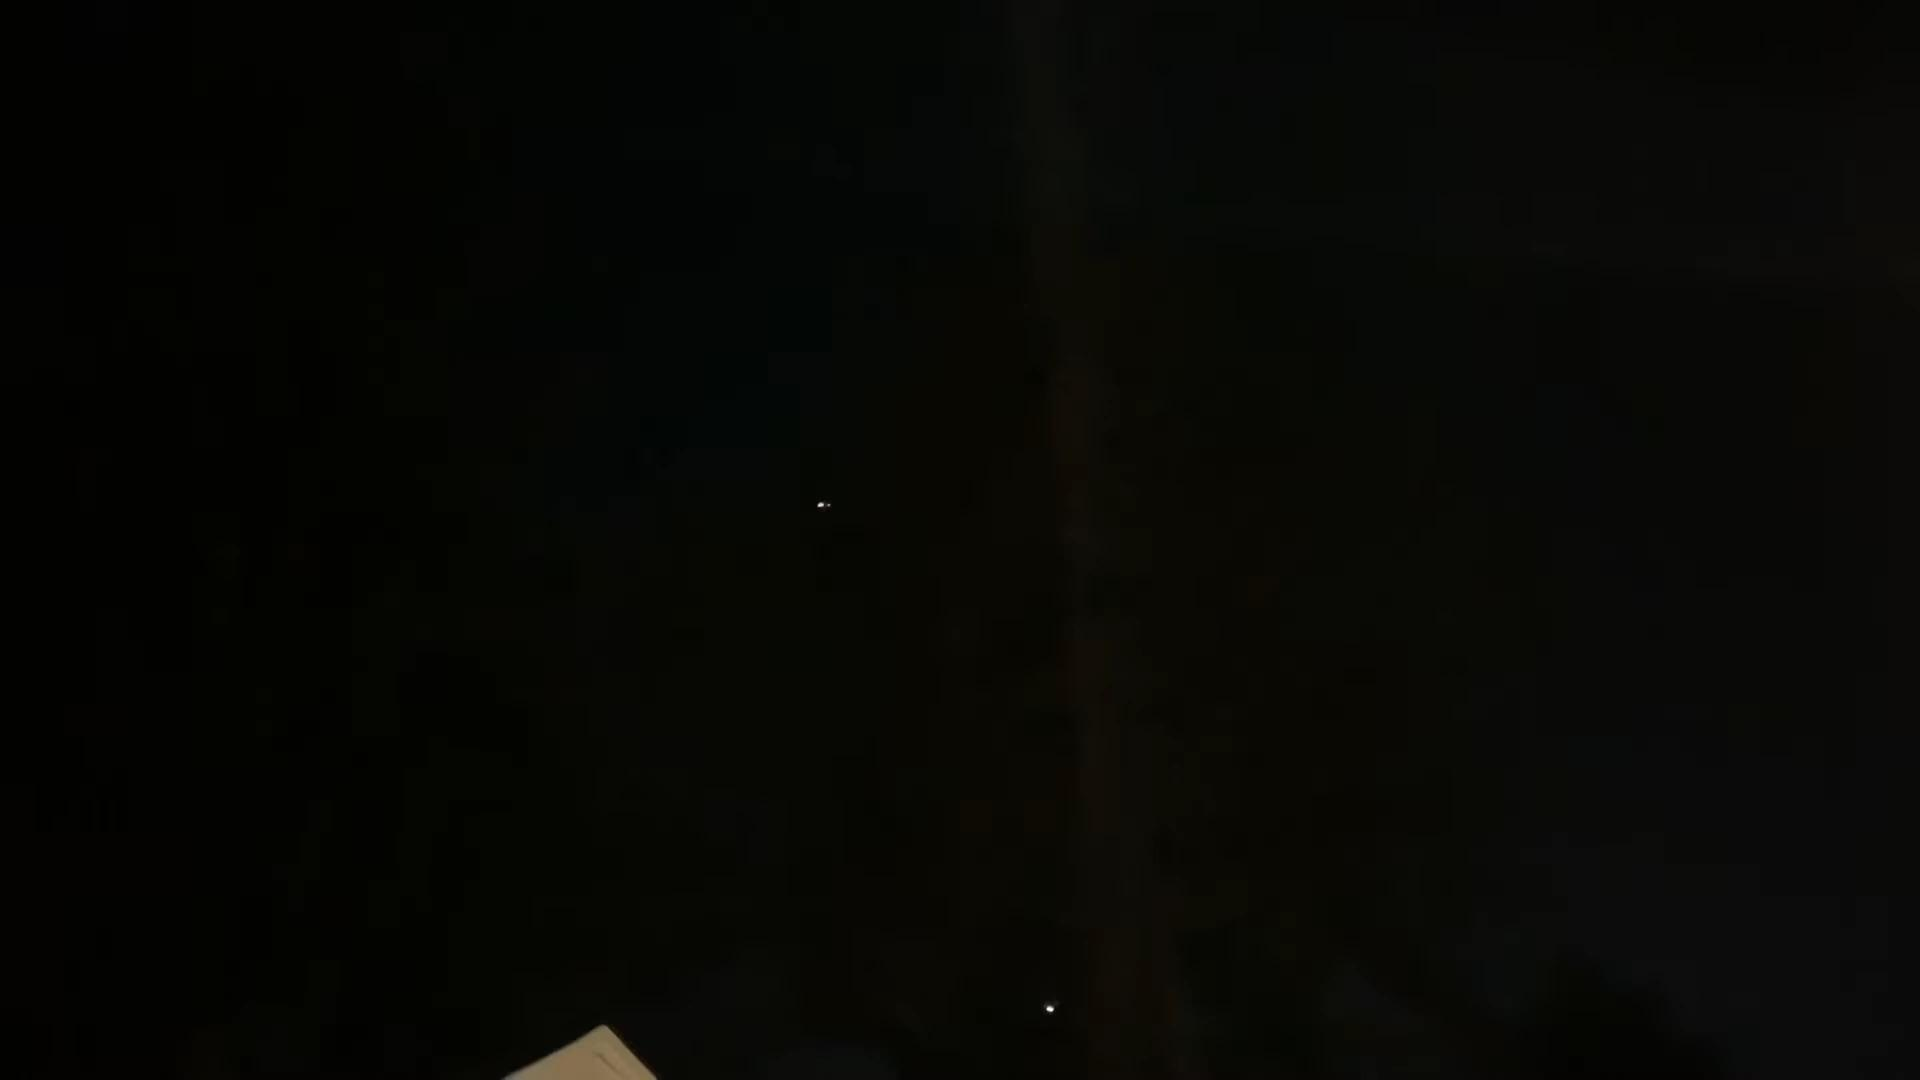Plane: (803, 493, 853, 517)
